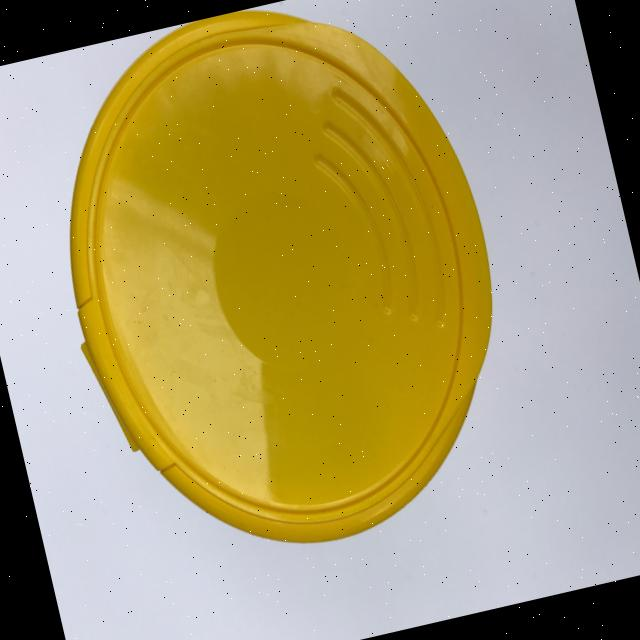plastic: (14, 0, 543, 585)
